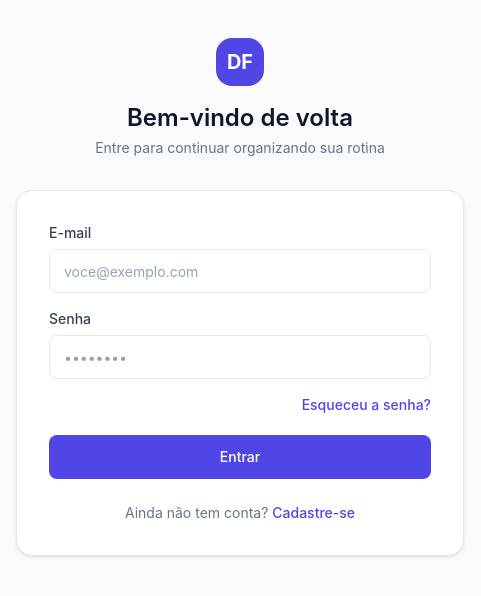
Test: LoginPage › shows validation errors when submitting empty form
The image size is (481, 596).
Click the button "Entrar": (240, 457) [49,435,431,479]
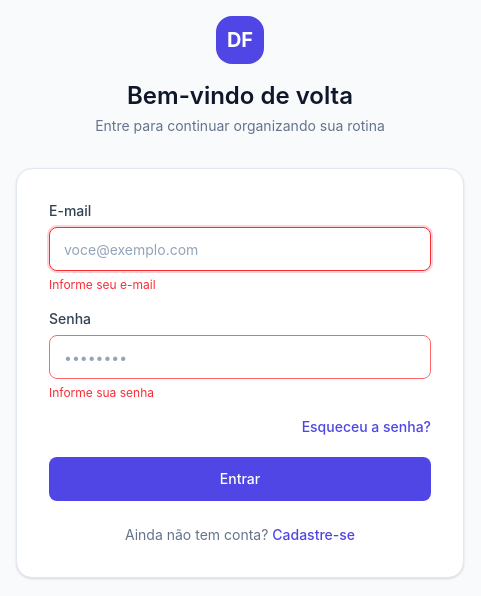
Check: the text "Informe seu e-mail" is shown, box [49,277,156,292]
Check: the text "Informe sua senha" is shown, box [49,385,154,400]
